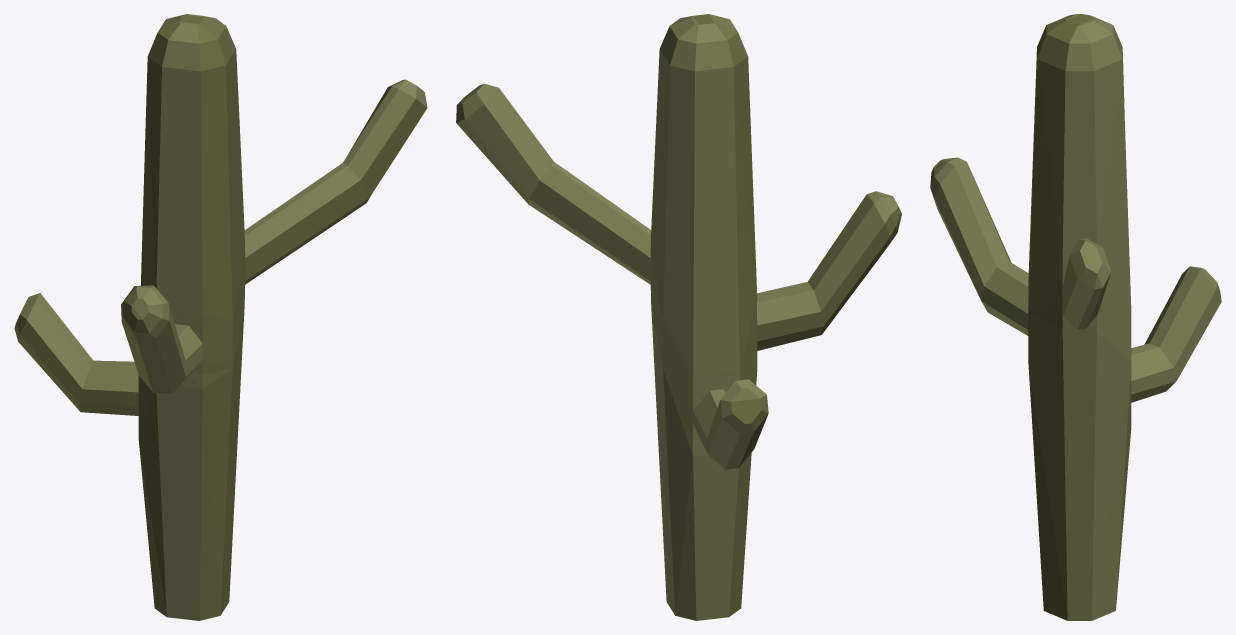
File: cactus_02.fbx
The picture shows the model from 3 angles, left to right: view 1: azimuth 30°, elevation 25°; view 2: azimuth 150°, elevation 25°; view 3: azimuth 270°, elevation 25°; orthographic projection.
Parts seen in each view (by area): view 1: cactus_02; view 2: cactus_02; view 3: cactus_02.
Part boxes in pixels (x1,y1,x2,y2): cactus_02: (14,14,427,620); cactus_02: (456,14,901,620); cactus_02: (930,14,1221,620).
Size of the model in its own units: 1.04 by 0.708 by 1.57.
